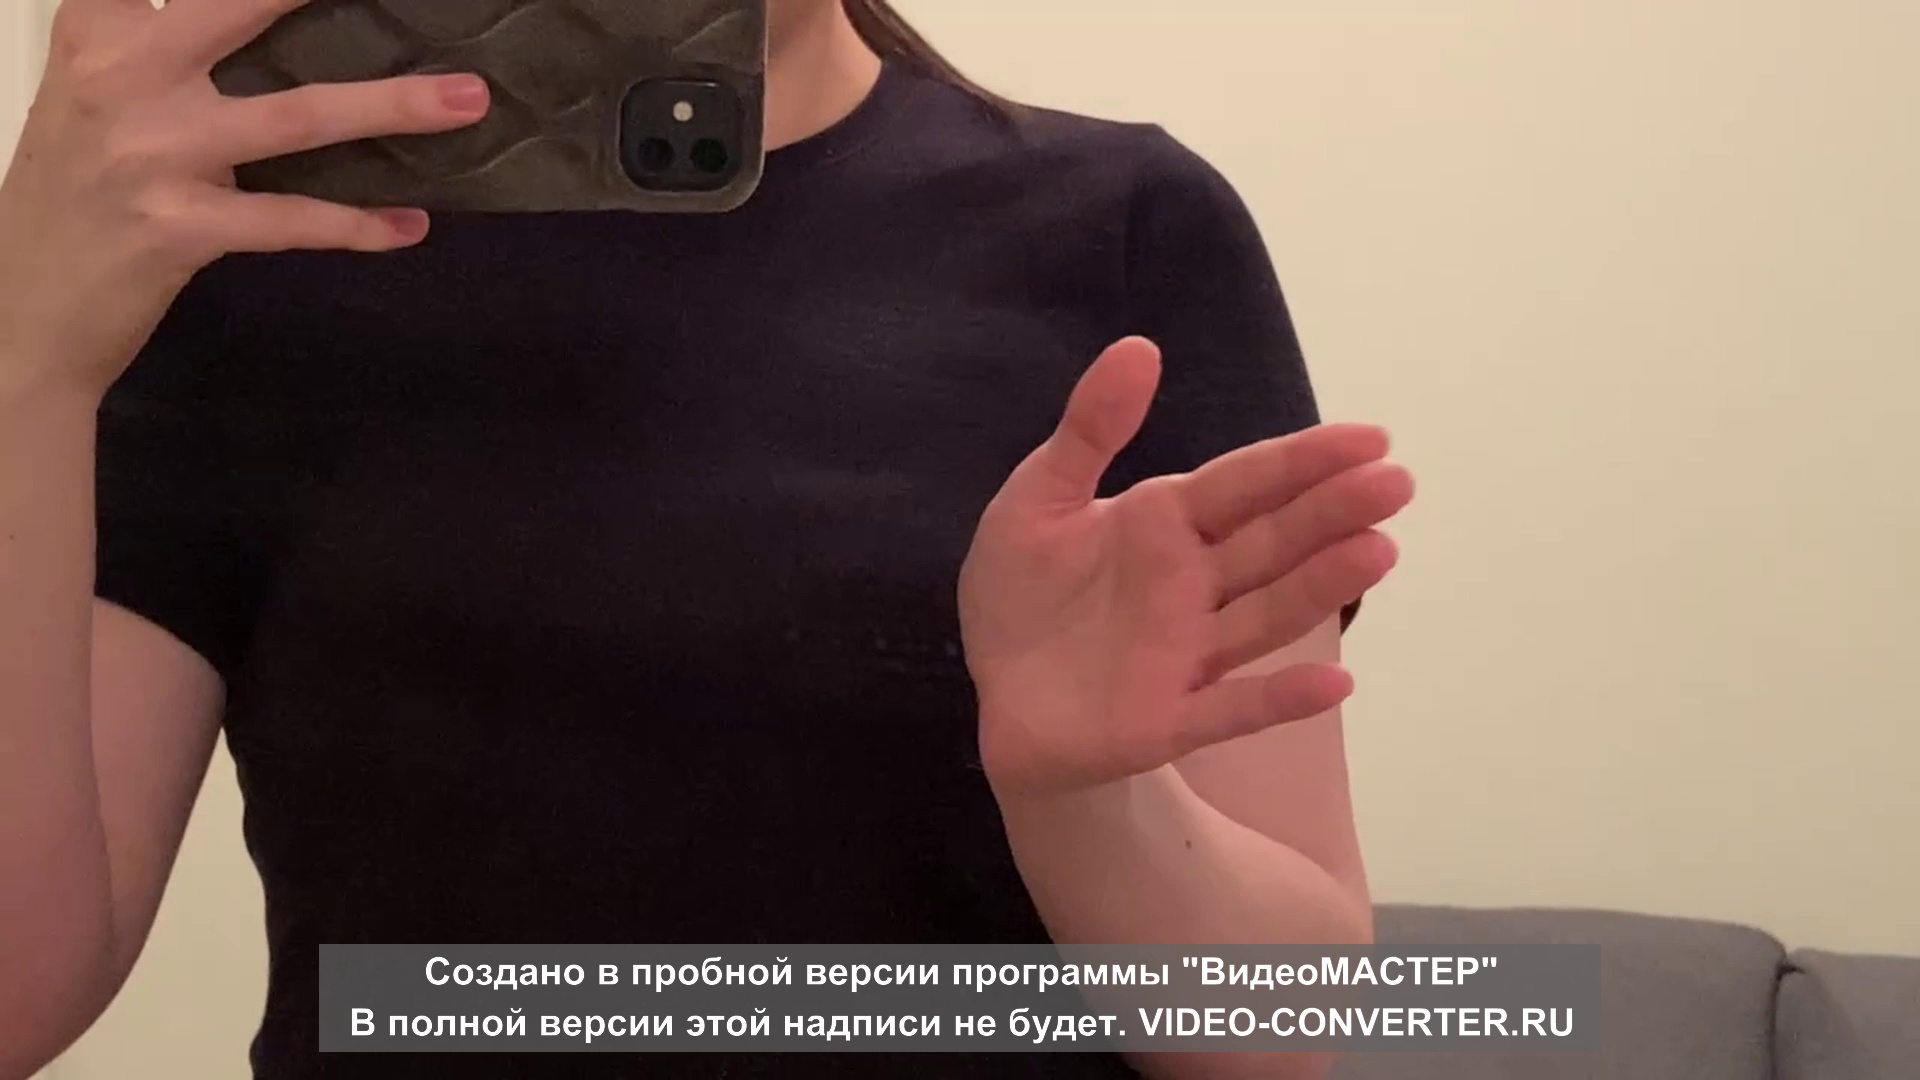Ладонь: (951, 338, 1415, 783)
